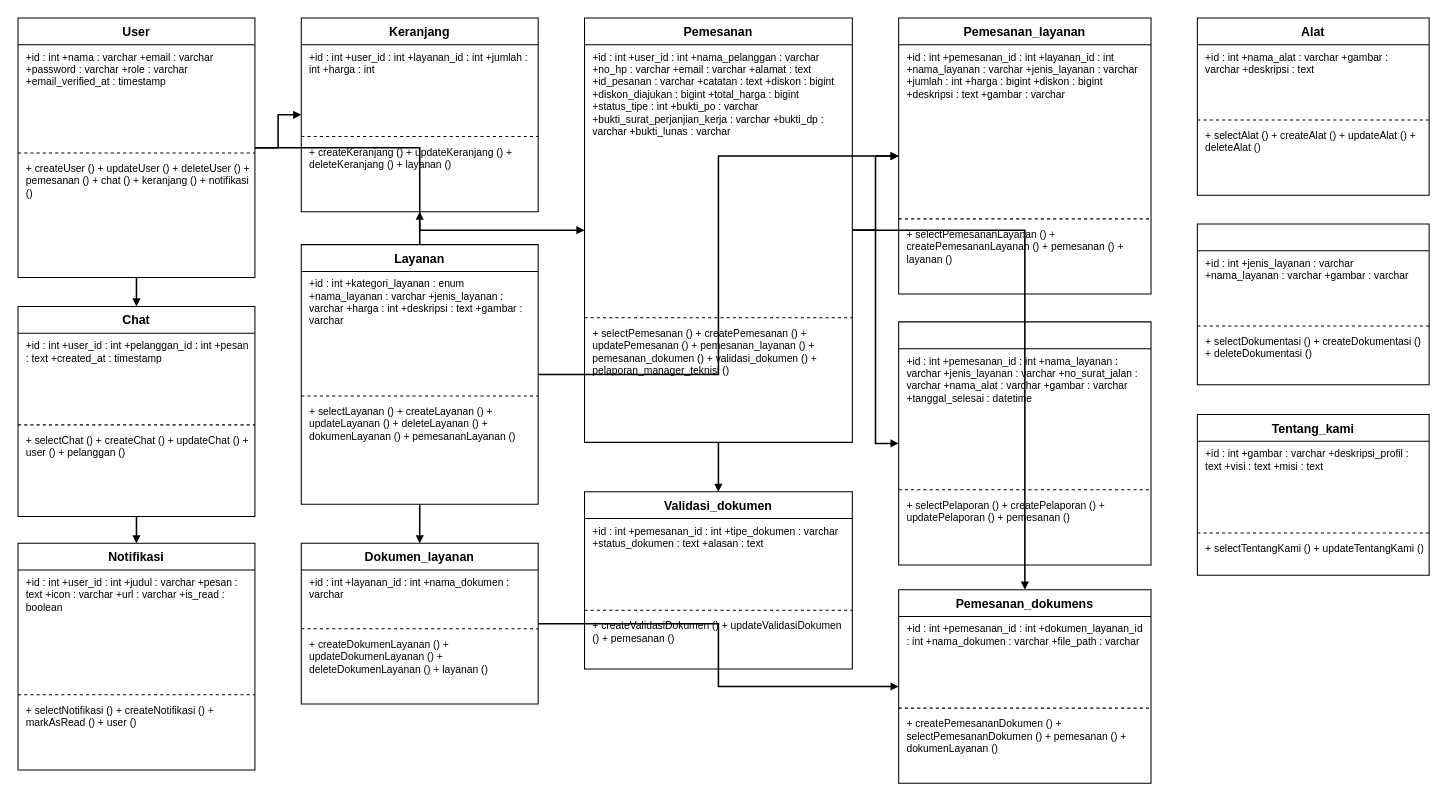
Image size: 1447x804. Some labels were removed from this diagram. Here are the shapes that lost their labels. From the top down, the box of each, then its label:
(1196, 223, 1429, 385): Dokumentasi_proyek
(898, 321, 1151, 565): Pelaporan_manager_teknisi
